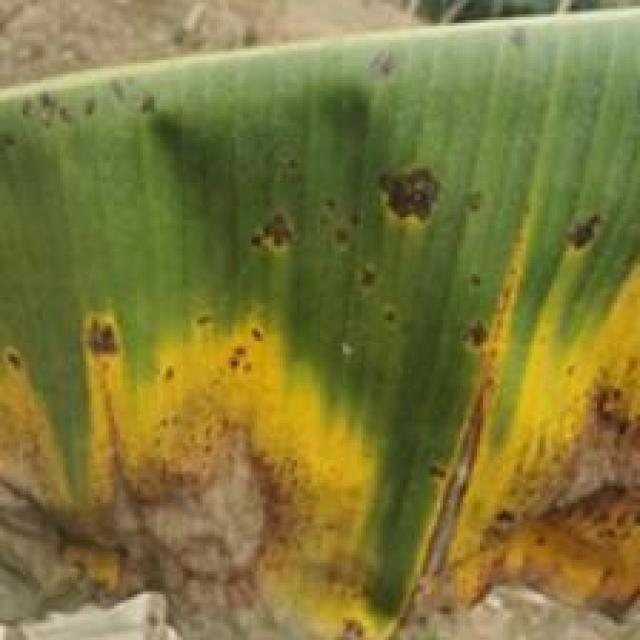Downey_mildrew: (3, 305, 640, 640), (245, 132, 640, 322), (0, 85, 183, 135), (341, 42, 409, 98), (480, 29, 538, 75)
